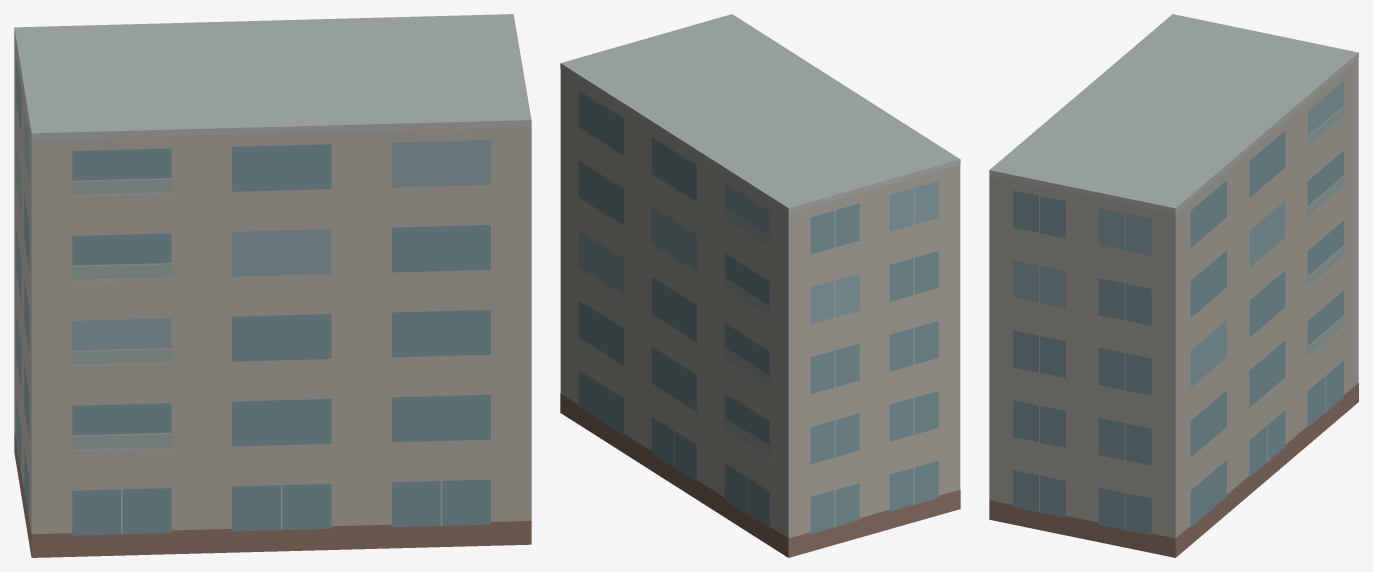
The model's file is survey-upis-32845395.glb.
3 views of the same model, side by side, from view 1: azimuth 30°, elevation 25°; view 2: azimuth 150°, elevation 25°; view 3: azimuth 270°, elevation 25° (orthographic). The views are drawn at different scales.
Visible parts, largest first — view 1: survey-upis-32845395.tmp; view 2: survey-upis-32845395.tmp; view 3: survey-upis-32845395.tmp.
Boxes of the visible parts, x1,y1,x2,y2 form: survey-upis-32845395.tmp: (14, 14, 531, 557); survey-upis-32845395.tmp: (560, 14, 960, 557); survey-upis-32845395.tmp: (989, 14, 1358, 557).
Size of the model in its own units: 19.21 by 16.1 by 15.43.
